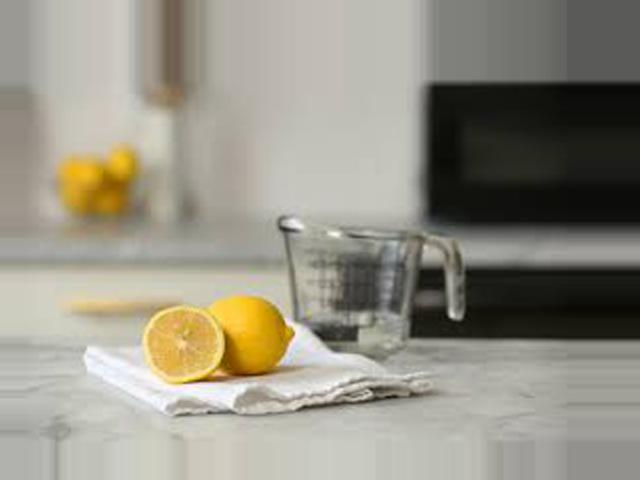lemon: (193, 290, 311, 386)
